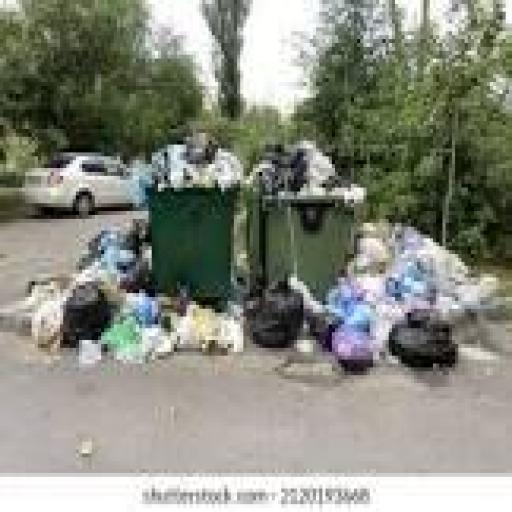poubelle_pleine: (246, 146, 384, 364), (134, 124, 252, 364)
